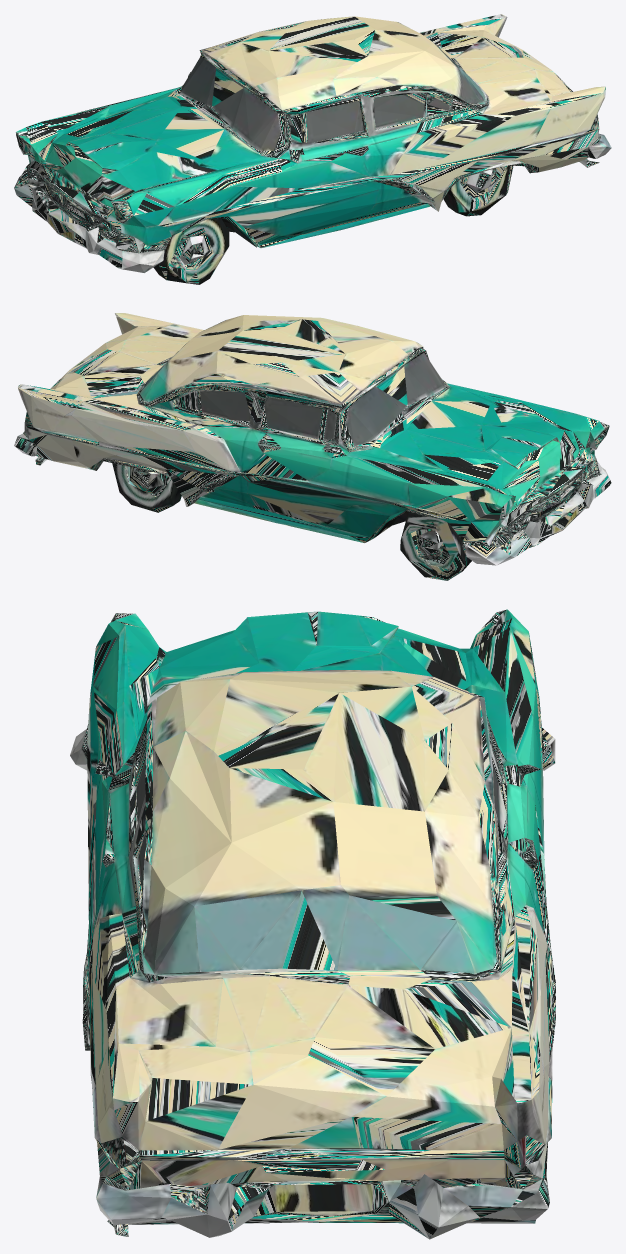
Rendered from car_sedan_1.glb.
The picture shows the model from 3 angles, top to bottom: view 1: azimuth 30°, elevation 25°; view 2: azimuth 150°, elevation 25°; view 3: azimuth 270°, elevation 25°; orthographic projection. The views are drawn at different scales.
Parts seen in each view (by area): view 1: normalize; view 2: normalize; view 3: normalize.
Part boxes in pixels (x1,y1,x2,y2): normalize: [14, 14, 611, 284]; normalize: [14, 313, 611, 580]; normalize: [70, 609, 555, 1239].
Size of the model in its own units: 1 by 0.3169 by 0.42.
1 material, 1 textured.
